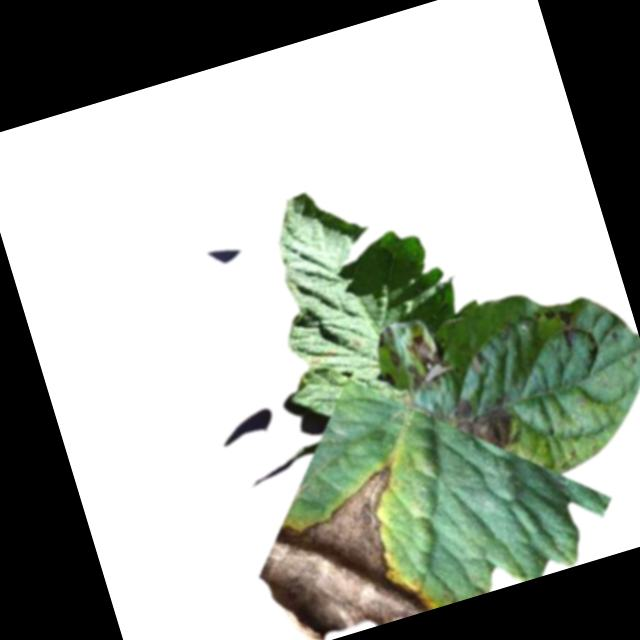Early_blight: (236, 460, 435, 640), (439, 385, 517, 462), (395, 326, 458, 399), (541, 302, 586, 352), (309, 342, 341, 367), (387, 343, 404, 369)
